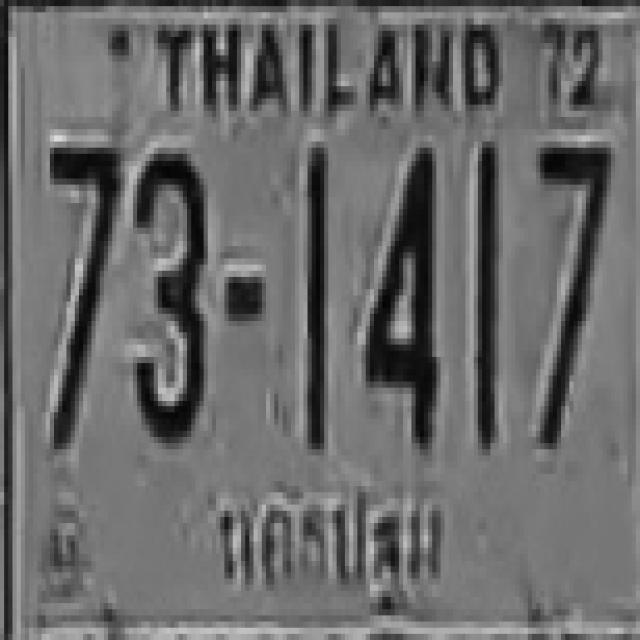1: (472, 141, 496, 437), (472, 142, 496, 400), (304, 151, 324, 446)
3: (128, 148, 204, 437)
4: (362, 142, 432, 443)
7: (536, 141, 607, 437), (48, 141, 118, 437), (536, 142, 607, 344), (48, 142, 118, 338), (536, 142, 607, 320)
NakhonPathom: (204, 476, 466, 624)
